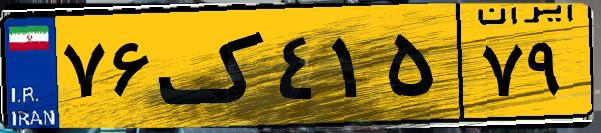1: (330, 28, 385, 110)
4: (270, 28, 330, 110)
5: (385, 28, 445, 110)
6: (110, 28, 158, 98)
7: (57, 26, 110, 100), (475, 38, 525, 113)
9: (525, 38, 570, 115)
ک: (158, 12, 270, 120)
